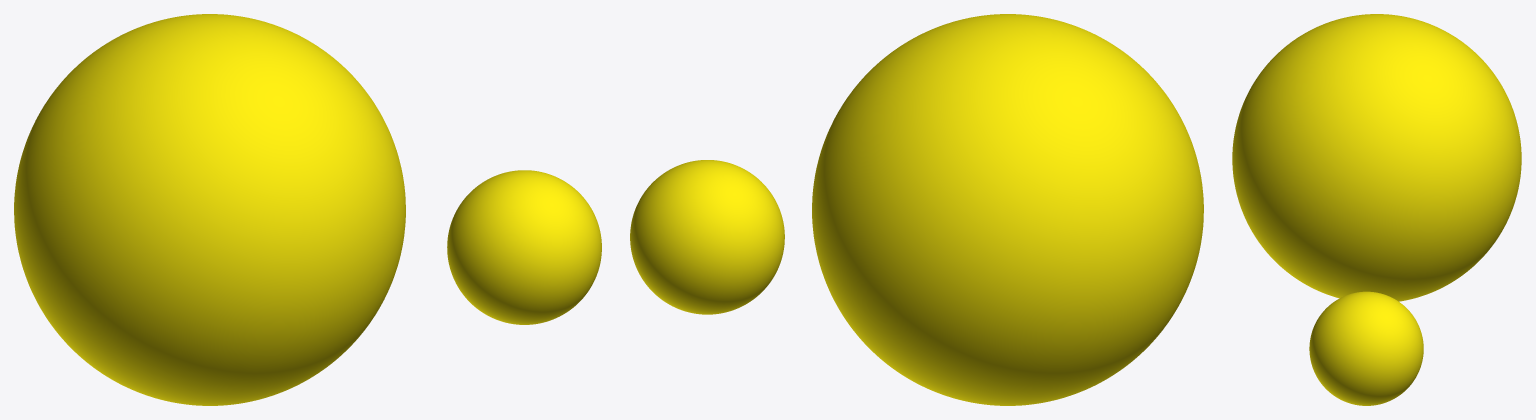
The model's file is orbs.glb.
3 views of the same model, side by side, from view 1: azimuth 30°, elevation 25°; view 2: azimuth 150°, elevation 25°; view 3: azimuth 270°, elevation 25° (orthographic). The views are drawn at different scales.
Visible parts, largest first — view 1: Large yellow glass orb, Small yellow glass orb; view 2: Large yellow glass orb, Small yellow glass orb; view 3: Large yellow glass orb, Small yellow glass orb.
Boxes of the visible parts, x1,y1,x2,y2 form: Large yellow glass orb: [14, 14, 405, 405]; Small yellow glass orb: [447, 170, 601, 324]; Large yellow glass orb: [812, 14, 1203, 405]; Small yellow glass orb: [630, 160, 784, 314]; Large yellow glass orb: [1232, 14, 1521, 301]; Small yellow glass orb: [1309, 291, 1423, 405].
Bounding box in the file's own units: 3.21 × 2 × 2.
